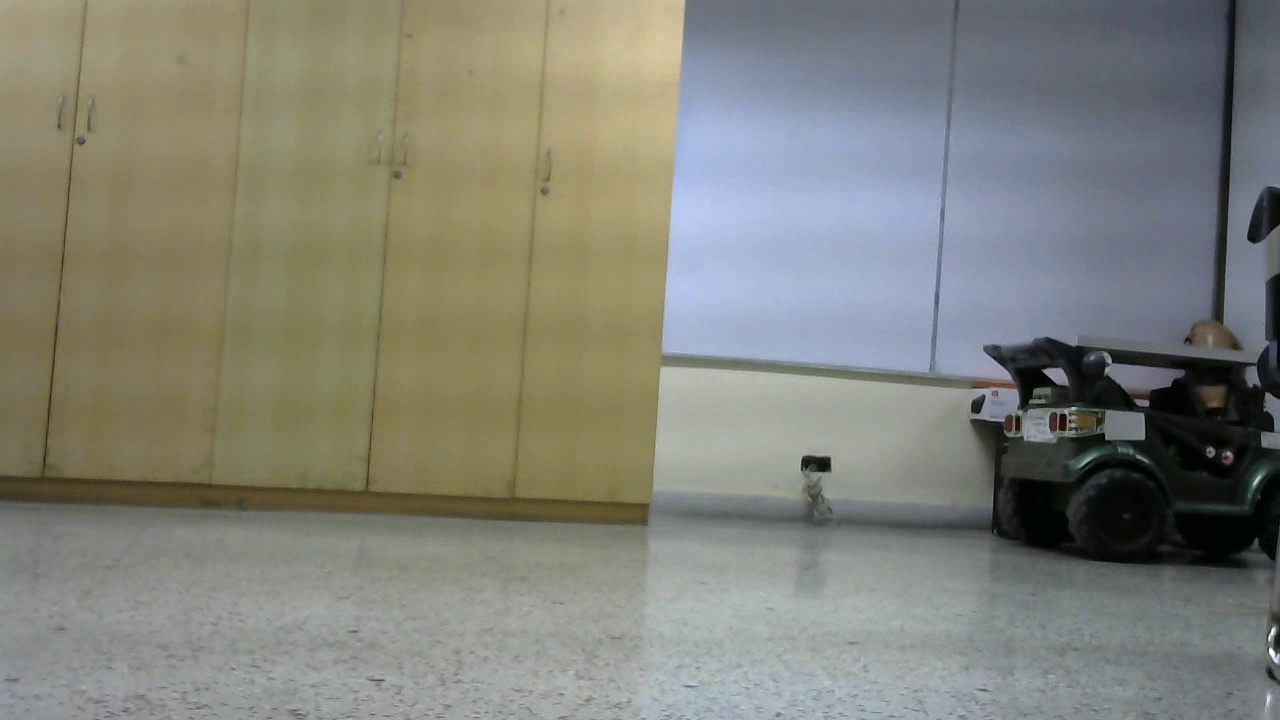chair: (846, 66, 1280, 672), (336, 84, 568, 563)
